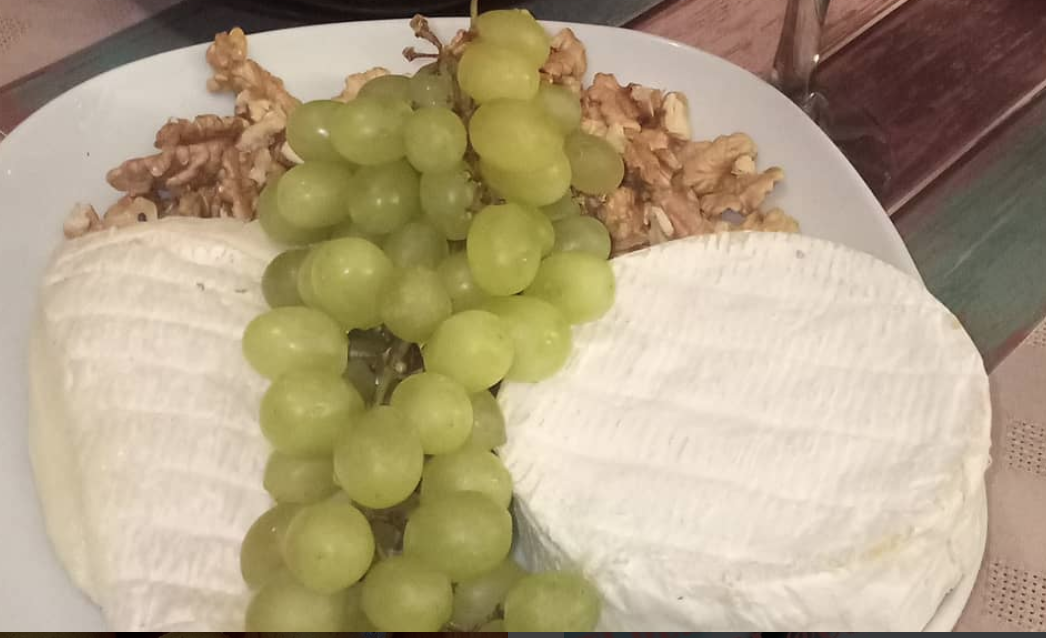camembert: (491, 227, 996, 631), (27, 217, 268, 638)
